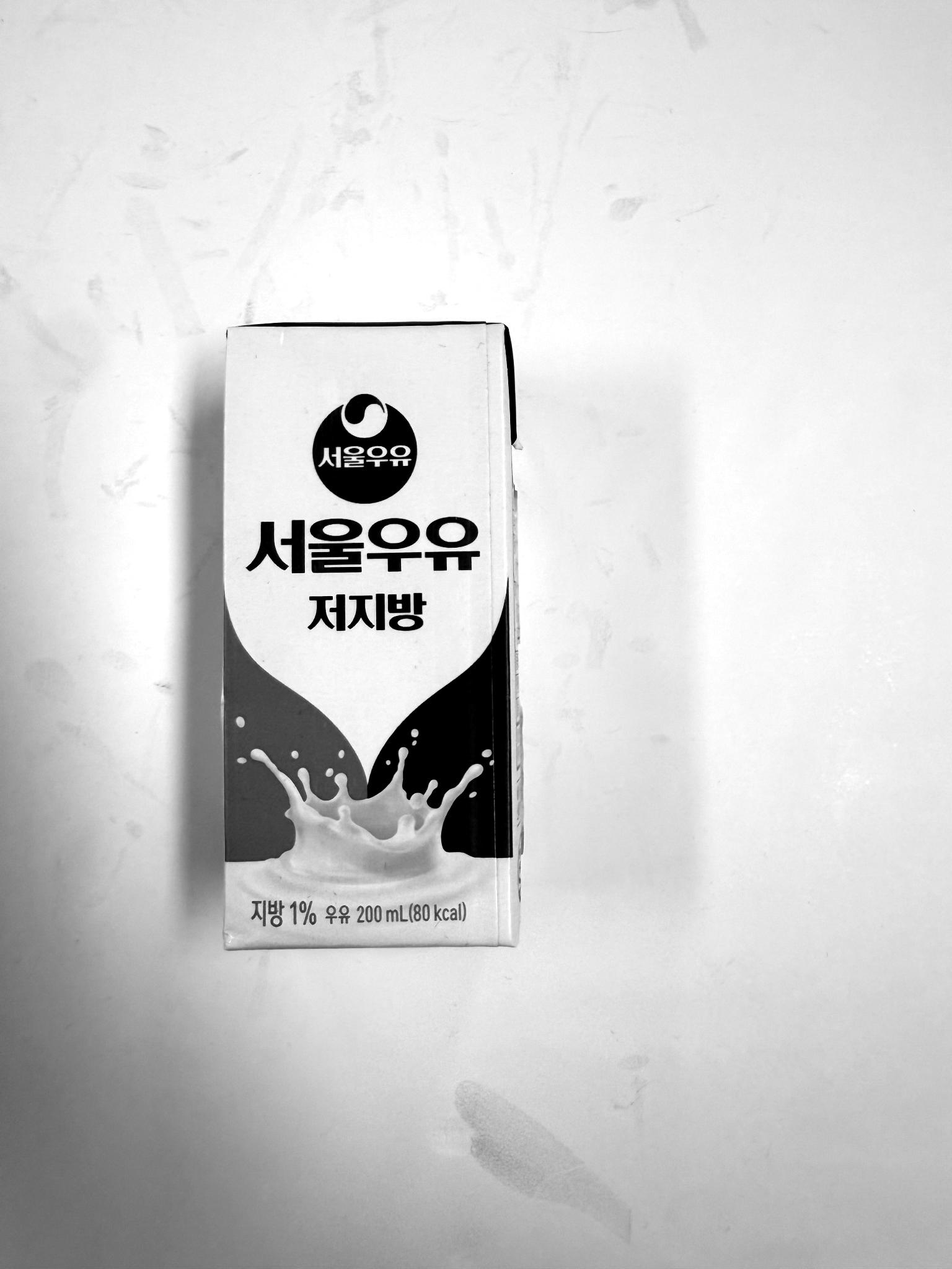milk_blue: (220, 318, 516, 950)
